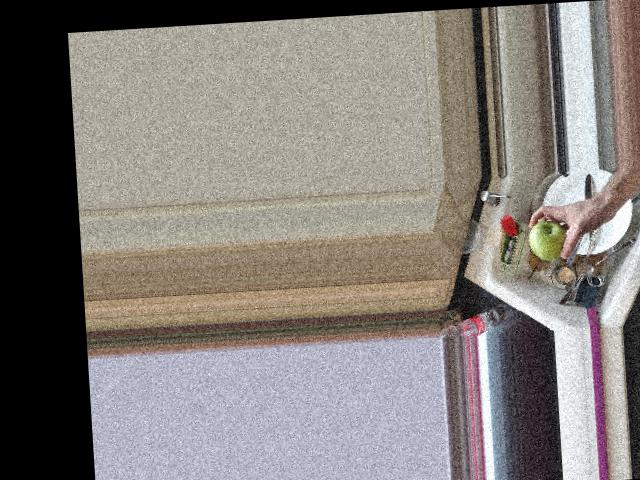apple: (526, 216, 572, 262)
